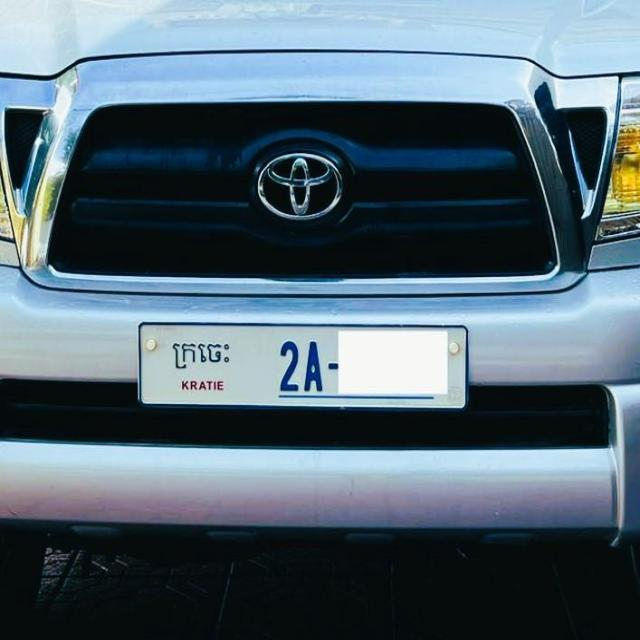Kratie: (172, 341, 230, 369)
